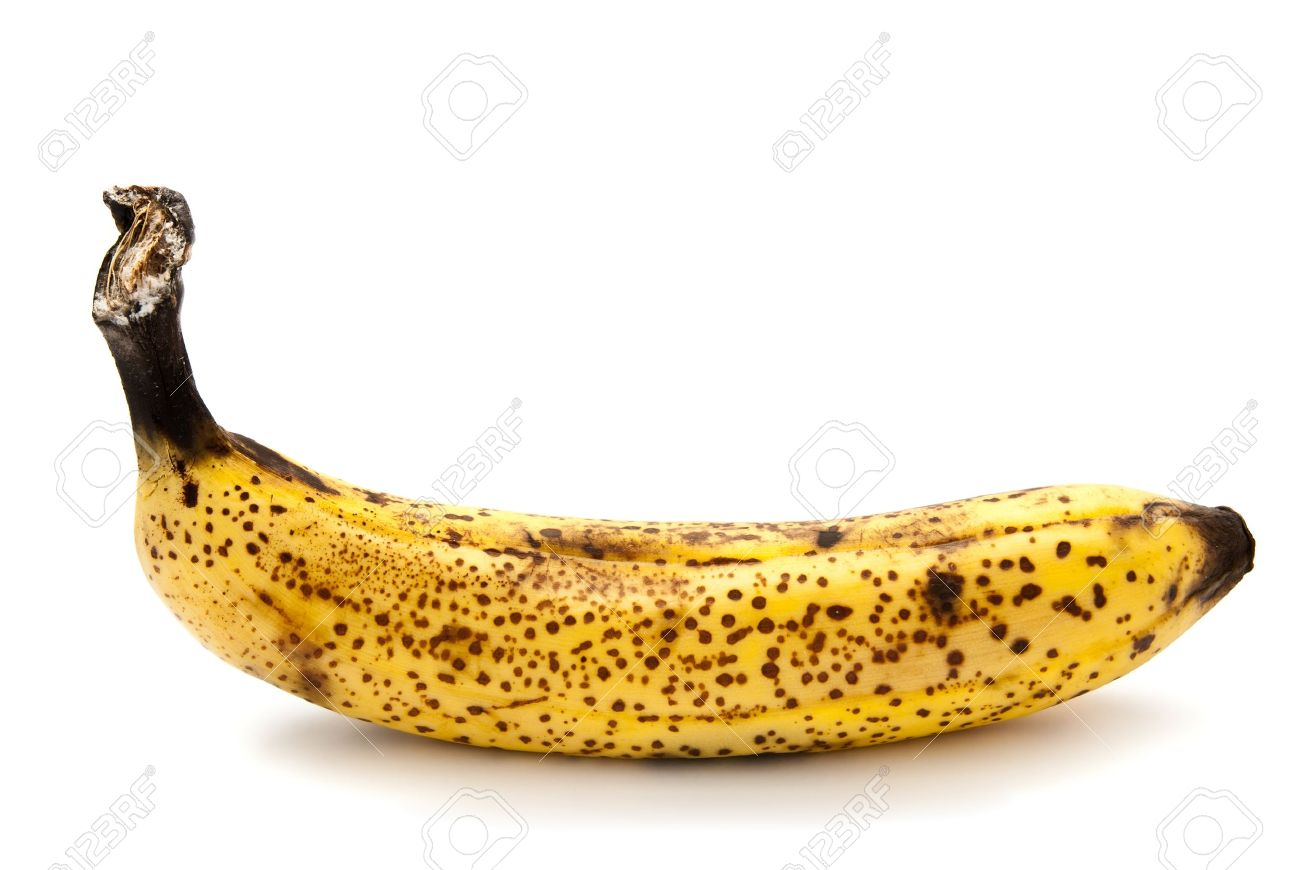damaged_banana: (87, 407, 1269, 769)
